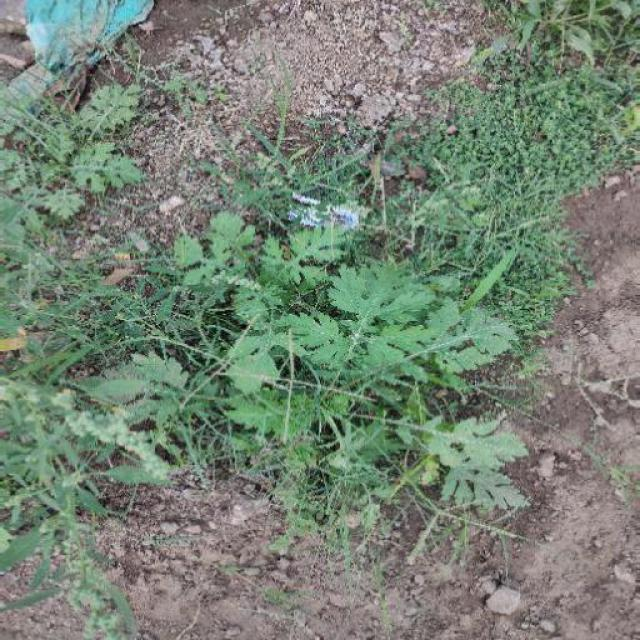weed: (64, 155, 532, 517)
